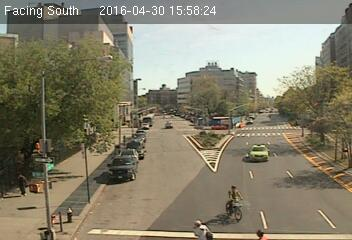neg: (69, 171, 94, 204), (46, 203, 69, 234), (32, 158, 55, 188), (115, 155, 137, 185), (156, 114, 169, 131), (132, 137, 145, 153)
pos: (223, 184, 247, 217), (13, 172, 30, 195), (191, 217, 208, 239)
